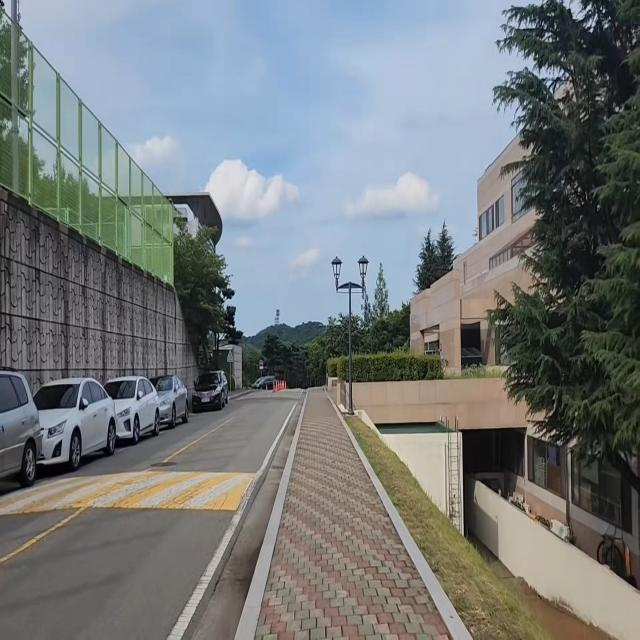road: (0, 388, 300, 640)
sidewalk: (233, 388, 470, 640)
